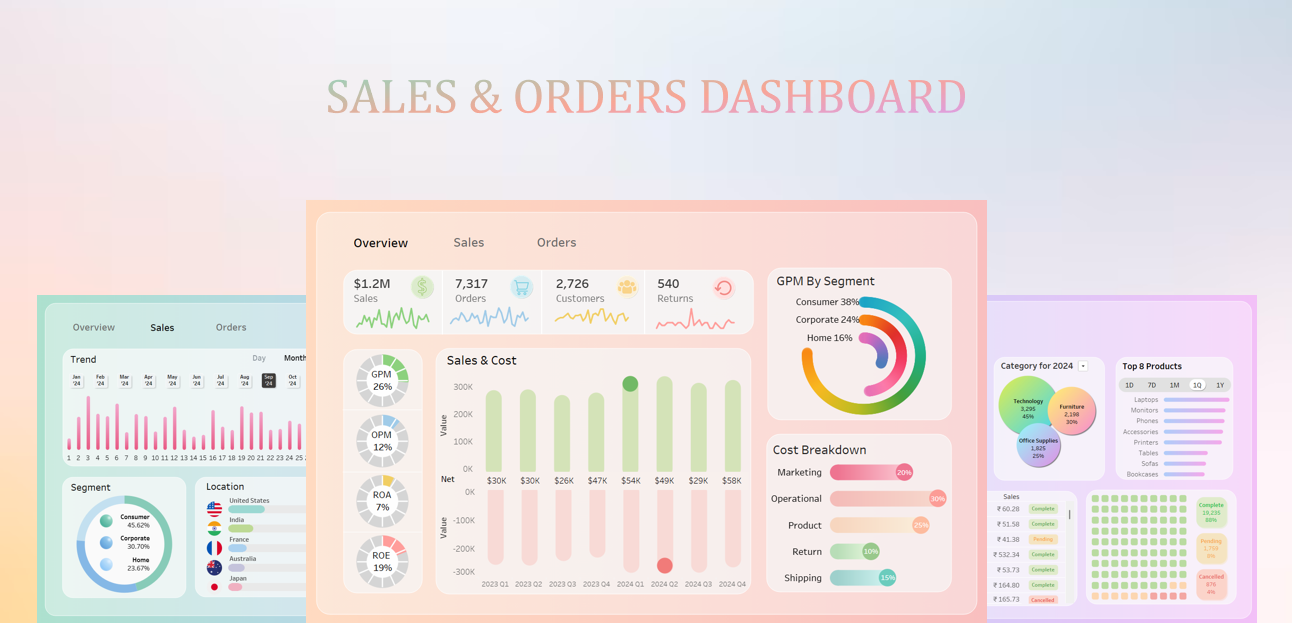

Layout of this report page (visuals, bound fields, positions):
{"tool":"tableau","page":{"name":"Overview","canvas":[1300,800],"ordinal":1},"visuals":[{"type":"image","param":"Image/1 Overview.png","box":[0,0,1300,800]},{"type":"worksheet","title":"Over Background","mark":"Automatic","box":[0,0,1300,800]},{"type":"text","box":[62,53,170,61]},{"type":"dashboard-object","box":[232,53,164,61]},{"type":"dashboard-object","box":[396,53,164,61]},{"type":"text","box":[449,136,2,119]},{"type":"text","box":[643,136,2,119]},{"type":"text","box":[889,136,221,37]},{"type":"text","box":[262,137,2,119]},{"type":"worksheet","title":"Over ALL KPI ","mark":"Automatic","box":[92,141,763,64]},{"type":"image","param":"Image/Sales Icon.png","box":[201,143,47,48]},{"type":"image","param":"Image/Orders Icon.png","box":[388,143,47,48]},{"type":"image","param":"Image/Customer Icon.png","box":[587,143,47,48]},{"type":"image","param":"Image/Returns Icon.png","box":[769,145,47,48]},{"type":"worksheet","title":"Over Radial","mark":"Line","box":[929,175,255,240]},{"type":"worksheet","title":"Over Orders Line","mark":"Automatic","rows":["Order ID"],"cols":["Order Date"],"box":[268,201,166,49]},{"type":"worksheet","title":"Over Sales Line","mark":"Automatic","rows":["Sales"],"cols":["Order Date"],"box":[92,202,154,48]},{"type":"worksheet","title":"Over Returns Line","mark":"Automatic","rows":["Returns"],"cols":["Order Date"],"box":[656,202,166,47]},{"type":"worksheet","title":"Over Customer Line","mark":"Automatic","rows":["Customer ID"],"cols":["Order Date"],"box":[466,204,156,44]},{"type":"worksheet","title":"Over Donut","mark":"Automatic","rows":["Metric"],"cols":["Calculation_226024472229781505","Calculation_226024472229810179"],"box":[77,286,146,450]},{"type":"text","box":[268,287,139,32]},{"type":"worksheet","title":"Over Sales Bar","mark":"Automatic","rows":["Sales"],"cols":["Order Date"],"box":[228,325,614,204]},{"type":"text","box":[75,396,149,1]},{"type":"text","box":[882,451,221,37]},{"type":"worksheet","title":"Over Bar Chart","mark":"Automatic","rows":["Type of Cost"],"cols":["Cost"],"box":[863,488,359,246]},{"type":"text","box":[257,511,48,29]},{"type":"text","box":[75,512,149,1]},{"type":"worksheet","title":"Over Net","mark":"Automatic","cols":["Calculation_226024472241840138"],"box":[323,512,517,34]},{"type":"worksheet","title":"Over Cost Bar","mark":"Automatic","rows":["Calculation_226024472245411856"],"cols":["Quarter-Year"],"box":[228,527,614,204]},{"type":"text","box":[76,624,149,1]}]}

Visuals, with their boxes on the page's 1300x800 design canvas (x1, y1, x2, y2). These are canvas units, not pixel positions in the 1292x623 screenshot, which may show the page scaled, cropped or inside an application window:
image: rect(0, 0, 1300, 800)
"Over Background" worksheet: rect(0, 0, 1300, 800)
text: rect(62, 53, 232, 114)
dashboard-object: rect(232, 53, 396, 114)
dashboard-object: rect(396, 53, 560, 114)
text: rect(449, 136, 451, 255)
text: rect(643, 136, 645, 255)
text: rect(889, 136, 1110, 173)
text: rect(262, 137, 264, 256)
"Over ALL KPI " worksheet: rect(92, 141, 855, 205)
image: rect(201, 143, 248, 191)
image: rect(388, 143, 435, 191)
image: rect(587, 143, 634, 191)
image: rect(769, 145, 816, 193)
"Over Radial" worksheet (Line marks): rect(929, 175, 1184, 415)
"Over Orders Line" worksheet: rect(268, 201, 434, 250)
"Over Sales Line" worksheet: rect(92, 202, 246, 250)
"Over Returns Line" worksheet: rect(656, 202, 822, 249)
"Over Customer Line" worksheet: rect(466, 204, 622, 248)
"Over Donut" worksheet: rect(77, 286, 223, 736)
text: rect(268, 287, 407, 319)
"Over Sales Bar" worksheet: rect(228, 325, 842, 529)
text: rect(75, 396, 224, 397)
text: rect(882, 451, 1103, 488)
"Over Bar Chart" worksheet: rect(863, 488, 1222, 734)
text: rect(257, 511, 305, 540)
text: rect(75, 512, 224, 513)
"Over Net" worksheet: rect(323, 512, 840, 546)
"Over Cost Bar" worksheet: rect(228, 527, 842, 731)
text: rect(76, 624, 225, 625)
